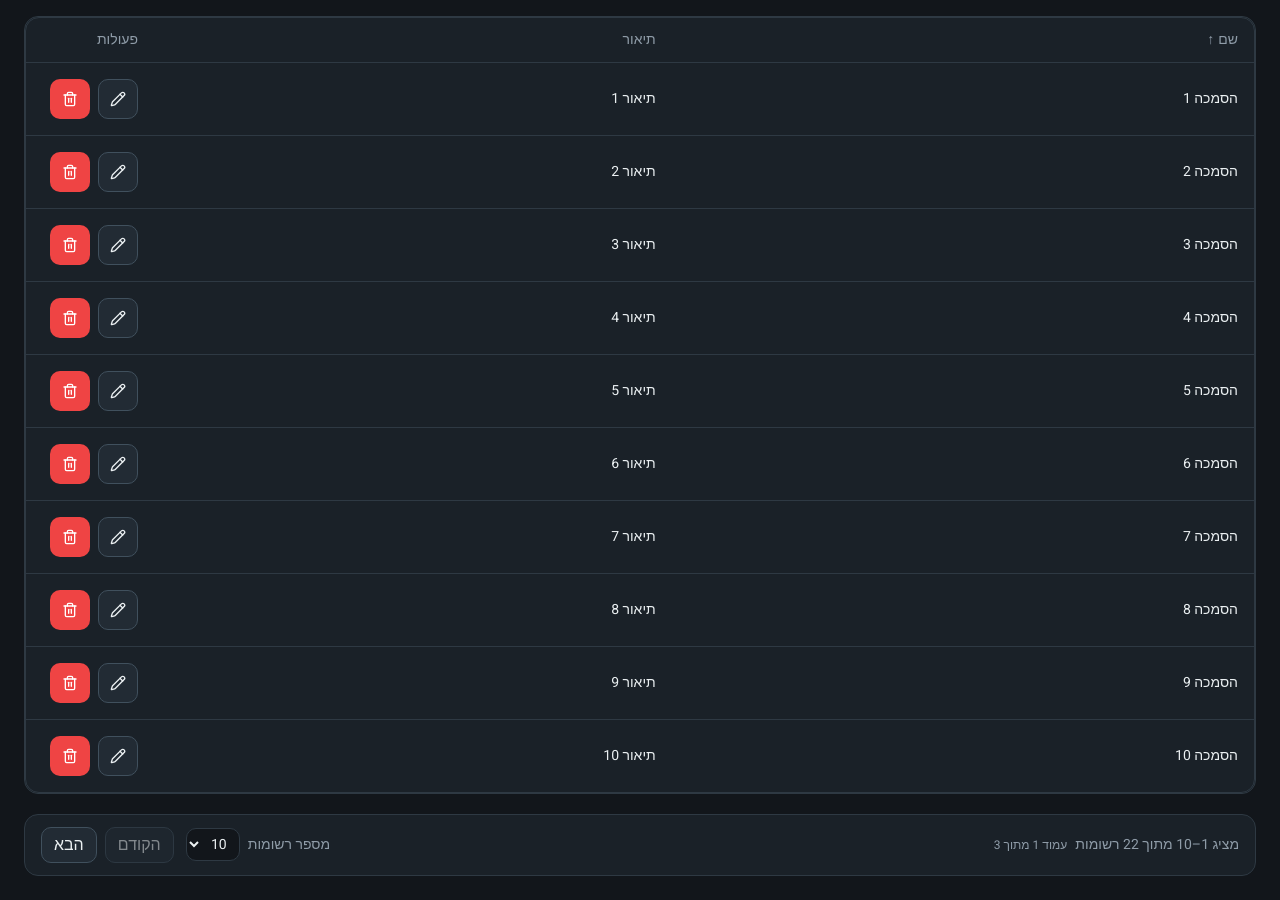
Test: QualificationsPage › moves to the next page and shows the next slice of qualifications
The width and height of the screenshot is (1280, 900).
(page scrolled)
Click the button "הבא" at (69, 844), box top-left (41, 826), bottom-right (97, 862)
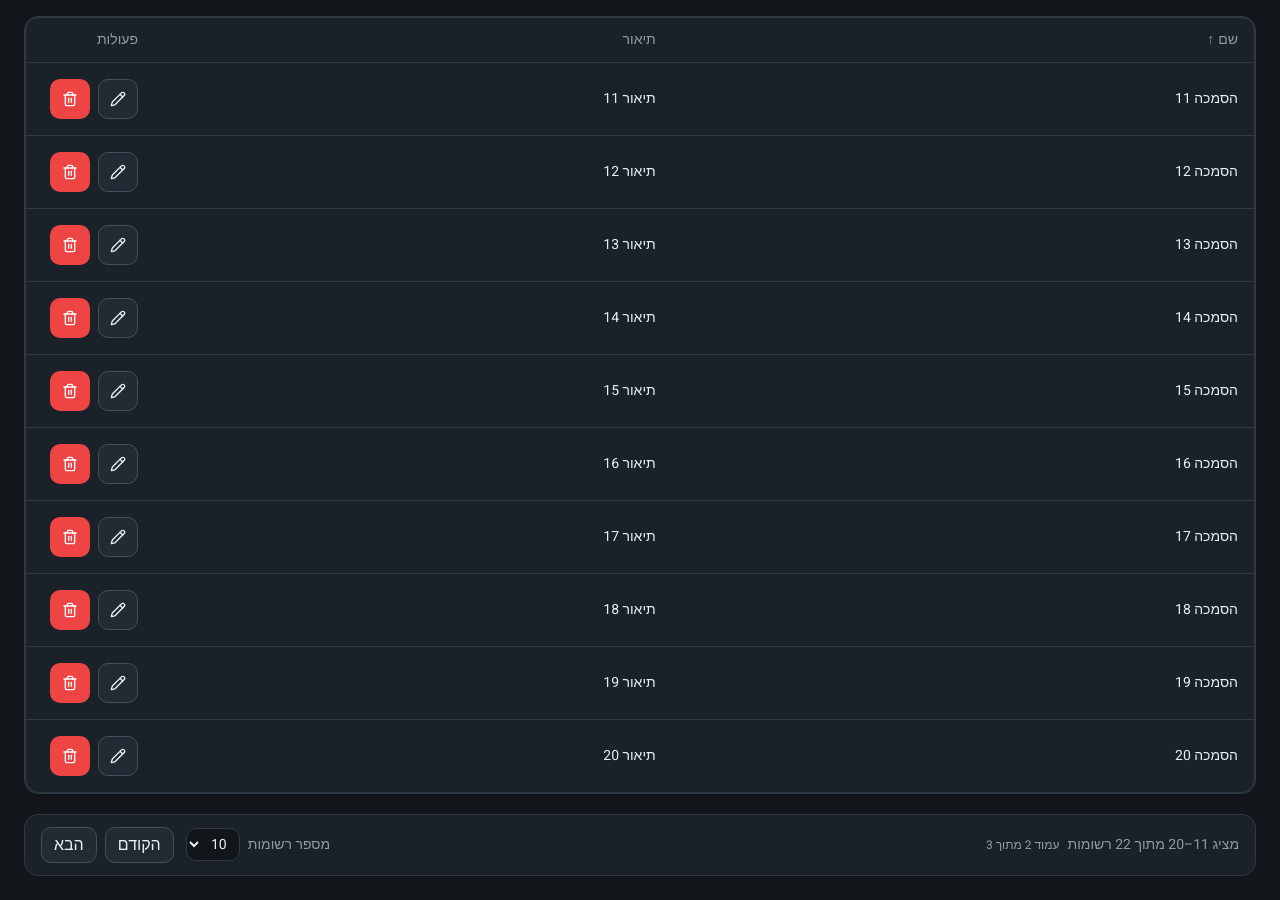
Result: the text "הסמכה 11" is shown at top-left (672, 62), bottom-right (1254, 135)
